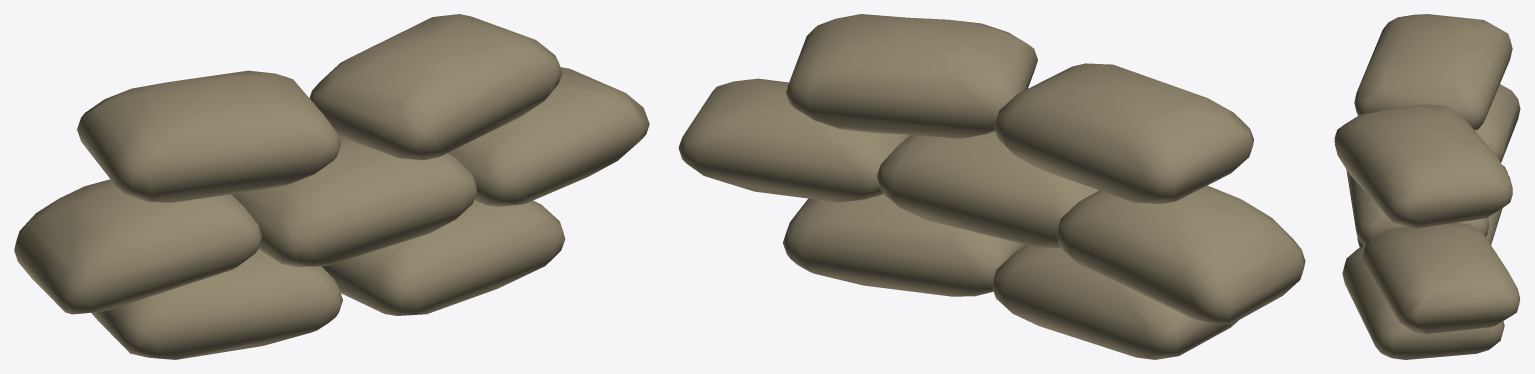
The model's file is bunker_sandbag.glb.
The picture shows the model from 3 angles, left to right: view 1: azimuth 30°, elevation 25°; view 2: azimuth 150°, elevation 25°; view 3: azimuth 270°, elevation 25°; orthographic projection. The views are drawn at different scales.
Size of the model in its own units: 2.32 by 0.9282 by 0.7472.
